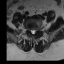CCS_normal: (32, 27, 34, 36)
LFS_stenosis: (36, 26, 38, 32)
LLS_normal: (34, 27, 36, 35)
RFS_stenosis: (28, 26, 30, 31)
RLS_normal: (30, 27, 32, 34)
